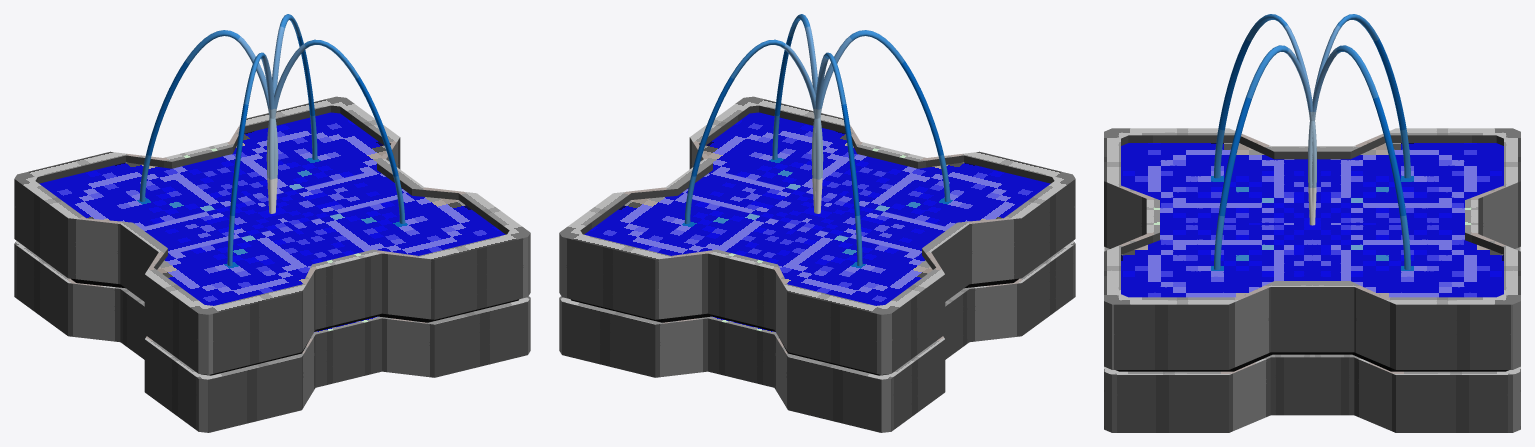
The model's file is fountain_893x00.gltf.
3 views of the same model, side by side, from view 1: azimuth 30°, elevation 25°; view 2: azimuth 150°, elevation 25°; view 3: azimuth 270°, elevation 25° (orthographic). The views are drawn at different scales.
Parts seen in each view (by area): view 1: Cube, BézierCurve; view 2: Cube, BézierCurve; view 3: Cube, BézierCurve.
Part boxes in pixels (<box>): Cube: <box>14,96,530,432</box>; BézierCurve: <box>139,14,405,266</box>; Cube: <box>559,96,1075,432</box>; BézierCurve: <box>684,14,950,266</box>; Cube: <box>1104,128,1520,432</box>; BézierCurve: <box>1214,14,1410,269</box>.
Size of the model in its own units: 5 by 4.15 by 5.
1 material, 1 textured.
